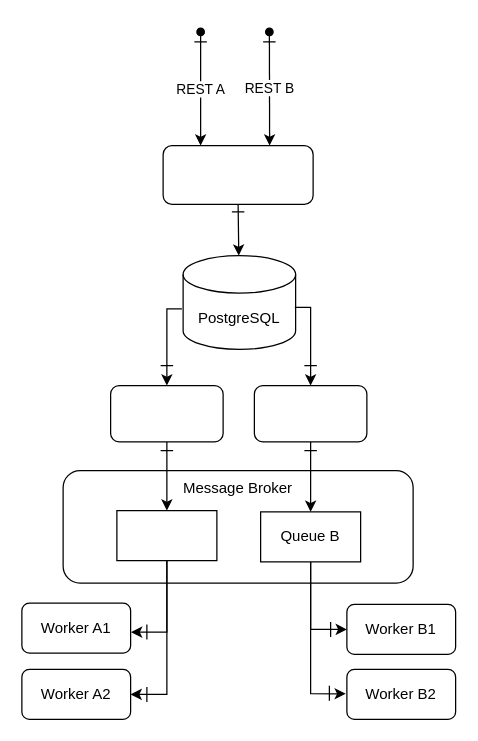
This 478x741 diagram has some shape labels left out. The centre of each missing label's shape, as x and y in pixels:
Dispatcher A: point 166,413
Dispatcher B: point 310,413
Queue A: point 166,535
Scheduler: point 237,174
